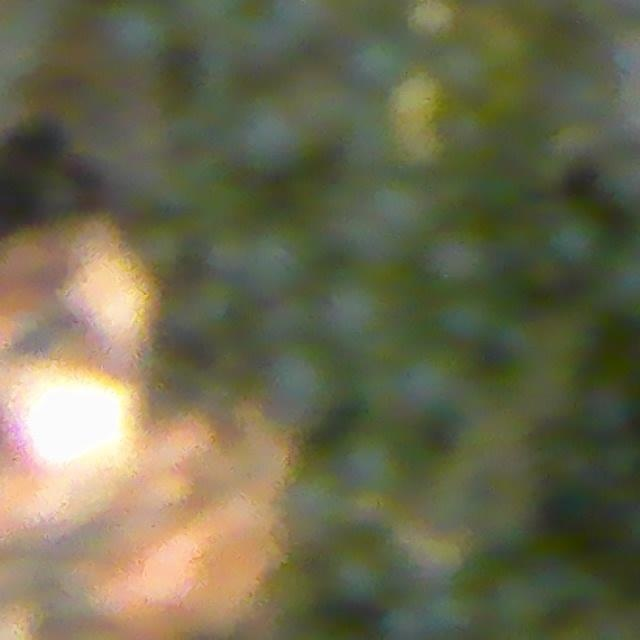SeaGrape: (333, 171, 438, 268), (374, 337, 473, 427), (231, 87, 320, 175), (320, 264, 405, 352), (263, 338, 347, 424), (241, 217, 320, 299), (337, 426, 413, 501), (424, 220, 499, 294), (97, 0, 178, 68), (536, 204, 606, 271), (346, 28, 414, 92), (264, 0, 352, 49), (327, 540, 390, 605), (433, 288, 499, 347), (405, 0, 462, 47)
